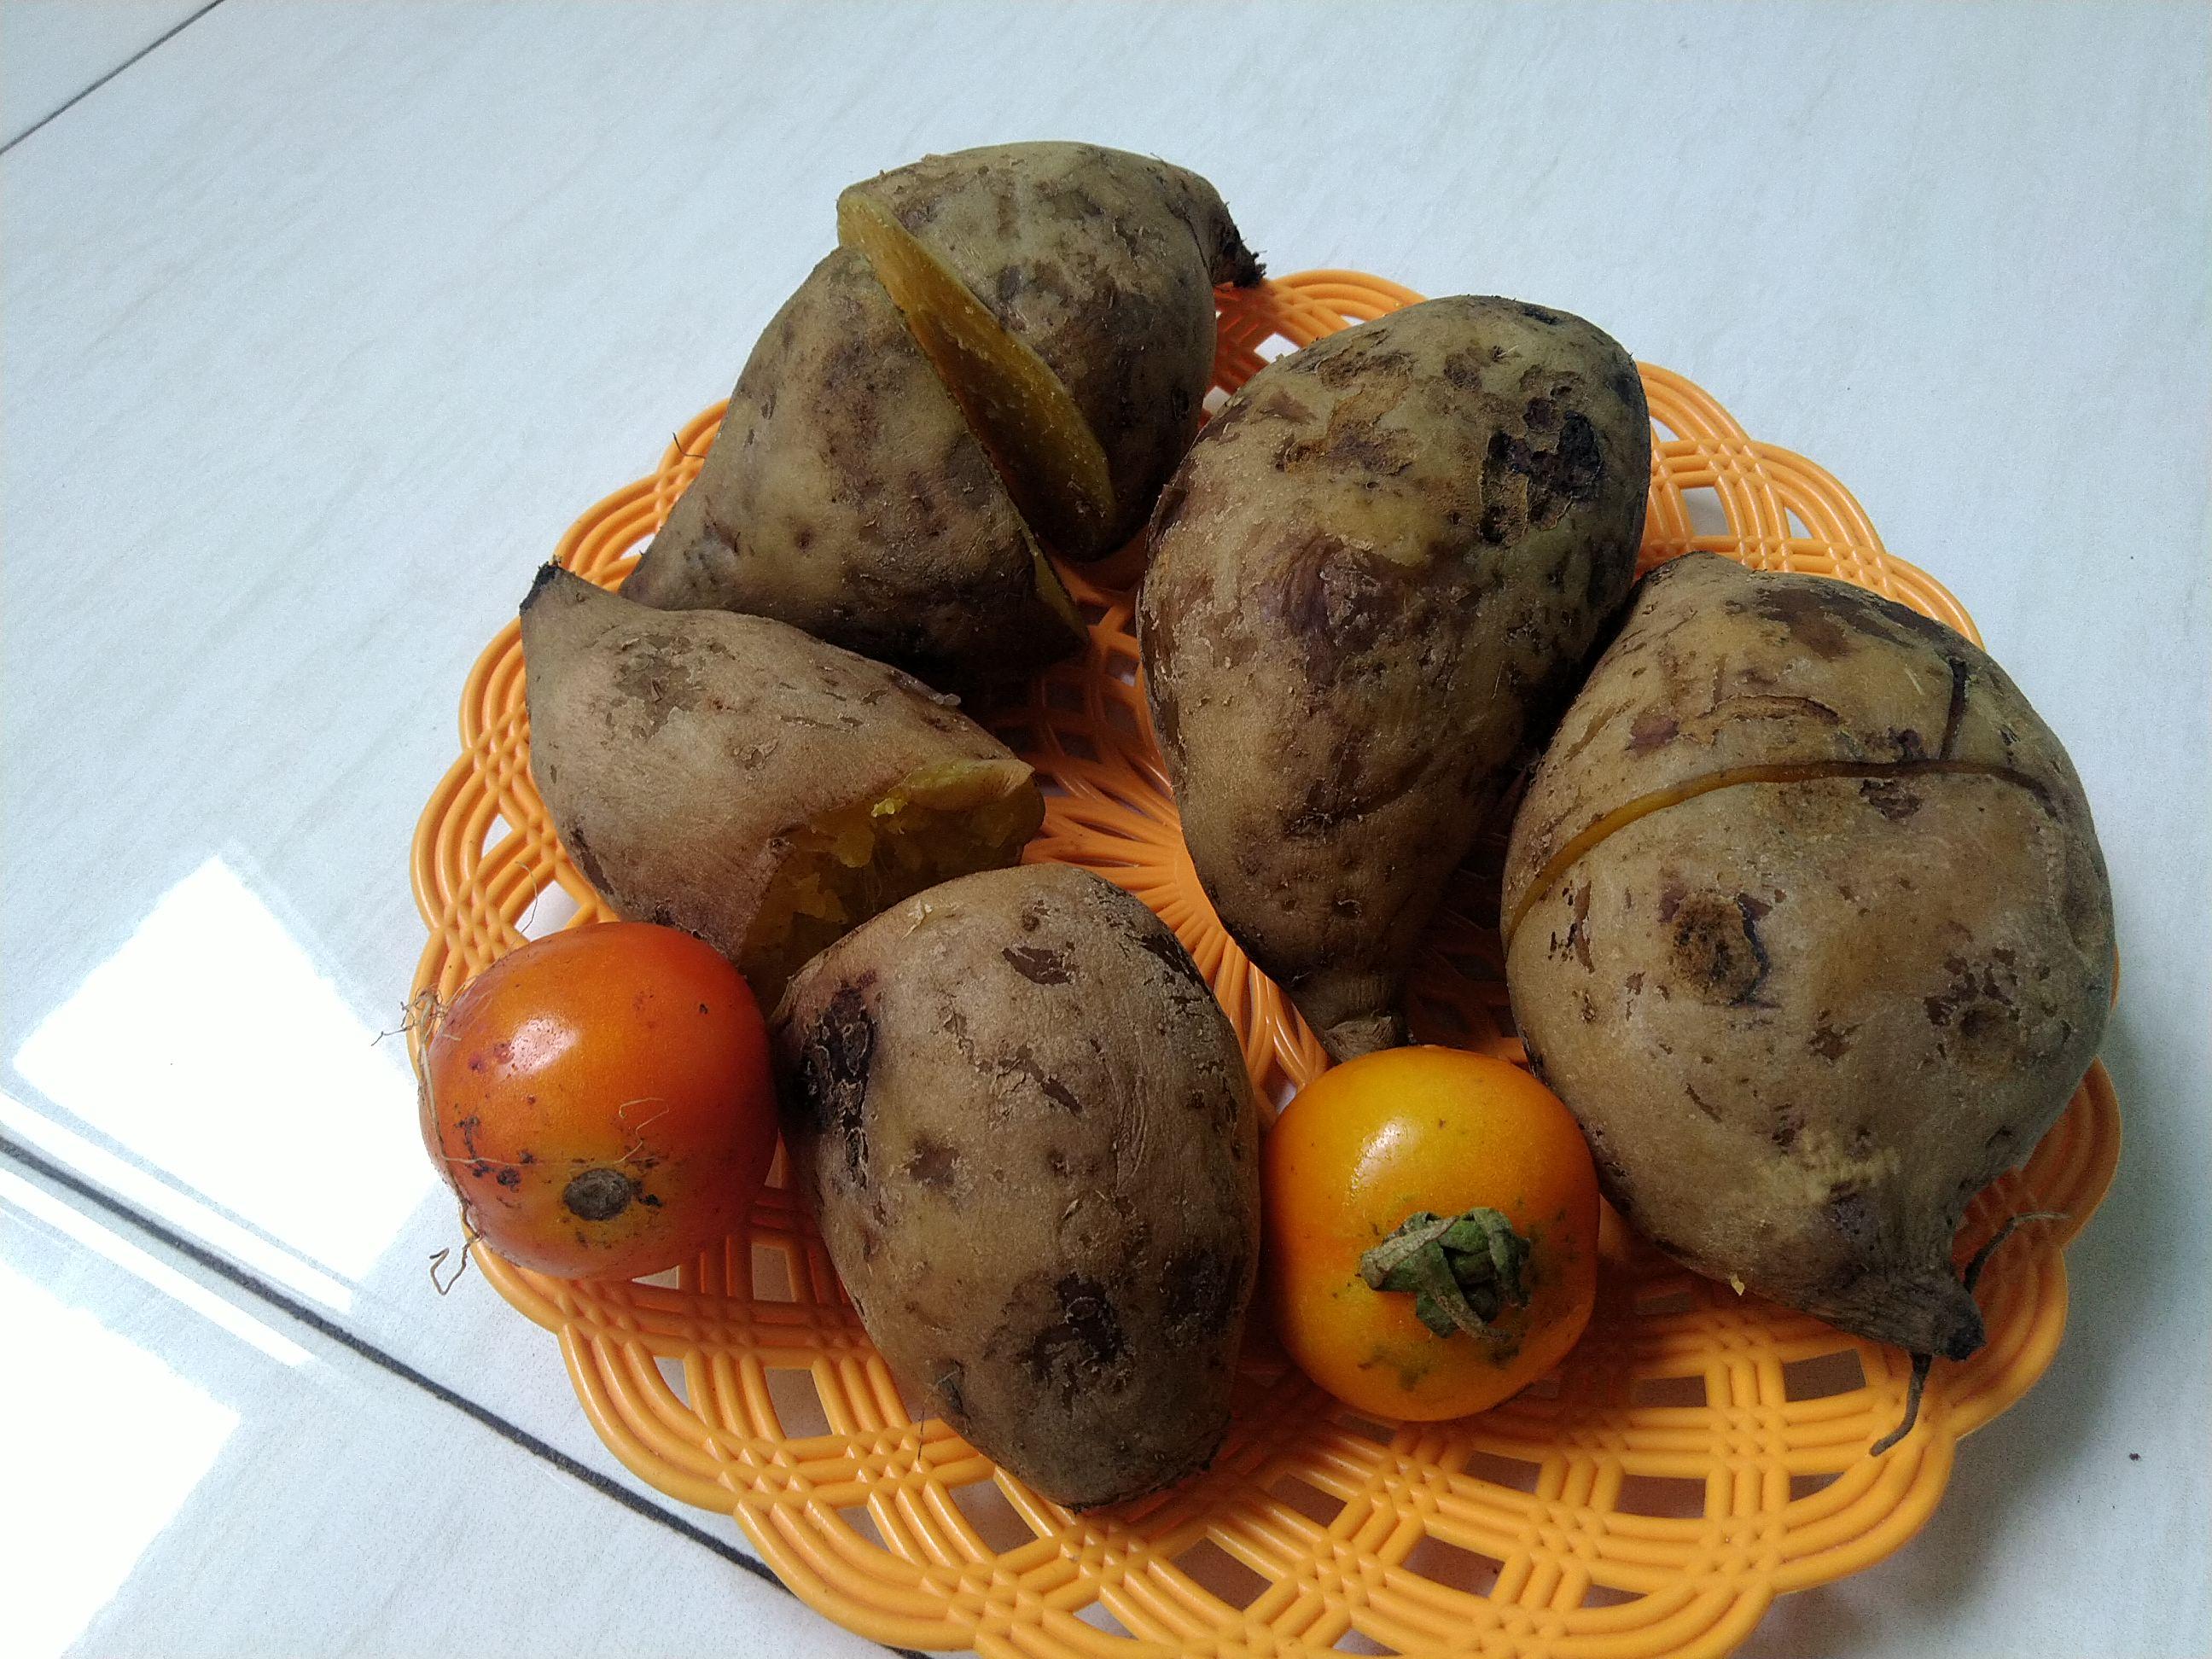ubi kuning: (1524, 542, 2123, 1373), (1120, 289, 1665, 1053), (775, 843, 1270, 1530), (585, 242, 1075, 669), (510, 554, 1040, 945), (819, 124, 1242, 554)
